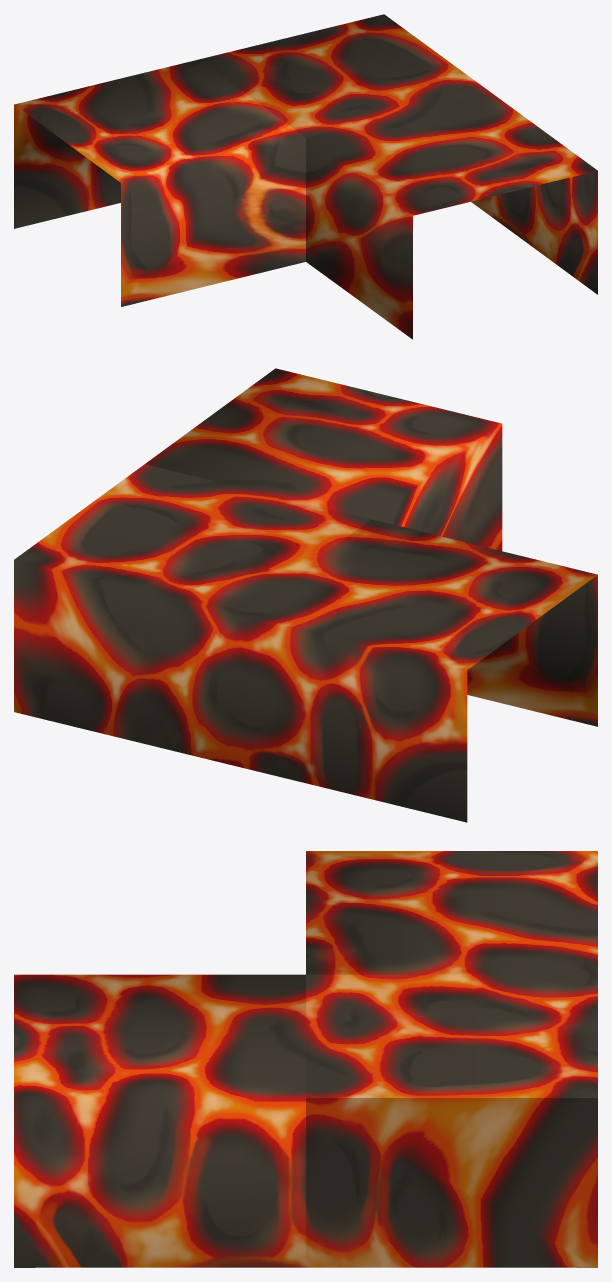
Rendered from WallCorner (2).fbx.
The picture shows the model from 3 angles, top to bottom: view 1: azimuth 30°, elevation 25°; view 2: azimuth 150°, elevation 25°; view 3: azimuth 270°, elevation 25°; orthographic projection. The views are drawn at different scales.
Visible parts, largest first — view 1: polySurface21; view 2: polySurface21; view 3: polySurface21.
Part boxes in pixels (x1,y1,x2,y2): polySurface21: (14,14,597,339); polySurface21: (14,368,597,822); polySurface21: (14,851,597,1267).
Bounding box in the file's own units: 1.81 × 0.5799 × 1.81.
